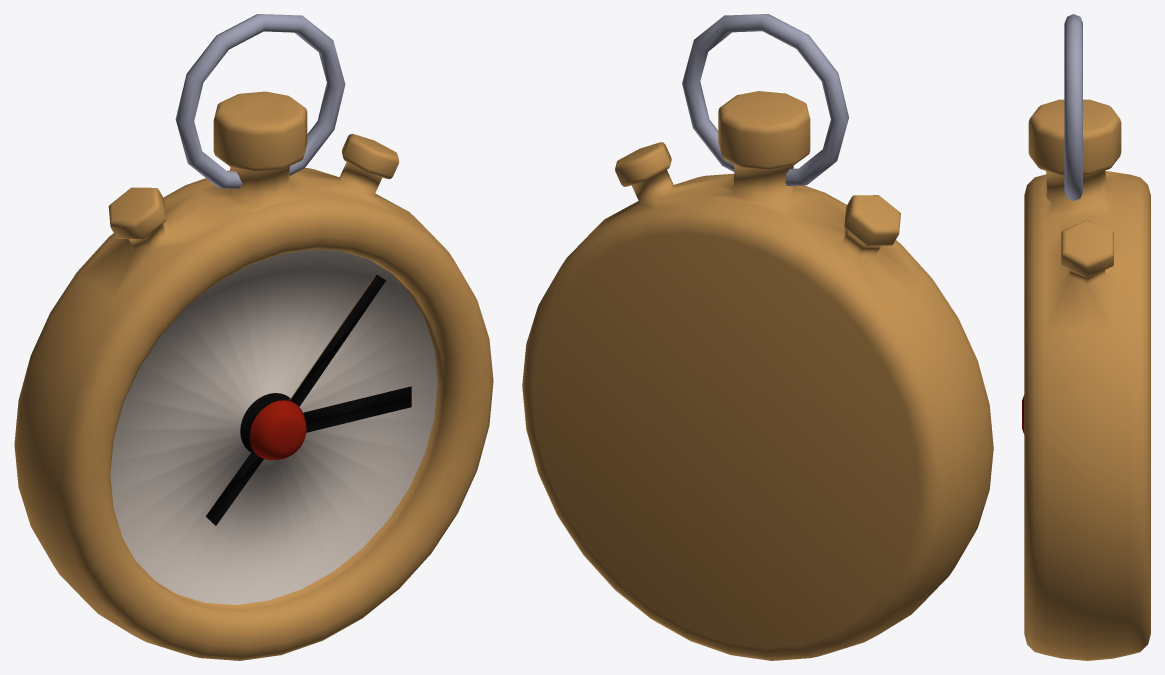
File: stopwatch.fbx
3 renders of one model, left to right at view 1: azimuth 30°, elevation 25°; view 2: azimuth 150°, elevation 25°; view 3: azimuth 270°, elevation 25°, orthographic. The views are drawn at different scales.
Visible parts, largest first — view 1: Cylinder.005; view 2: Cylinder.005; view 3: Cylinder.005.
Boxes of the visible parts, box(x1,y1,x2,y2) form: Cylinder.005: box(14, 14, 493, 660); Cylinder.005: box(522, 14, 993, 660); Cylinder.005: box(1022, 14, 1150, 660).
Size of the model in its own units: 119 by 164 by 31.2.
